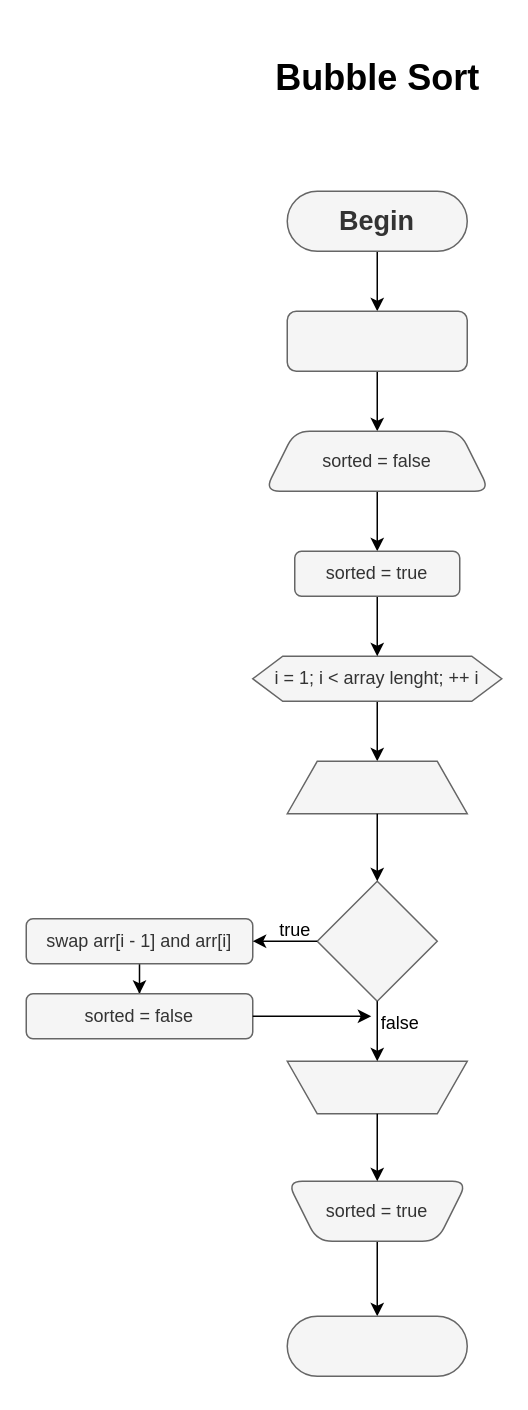
The diagram is 528 pixels wide and 1410 high, and some of its shapes have lost their labels. The centre of each missing label's shape, as x and y in pixels:
arr[i - 1] > arr[i]: pixel 376 940
End: pixel 376 1345
init sorted = false: pixel 376 340
